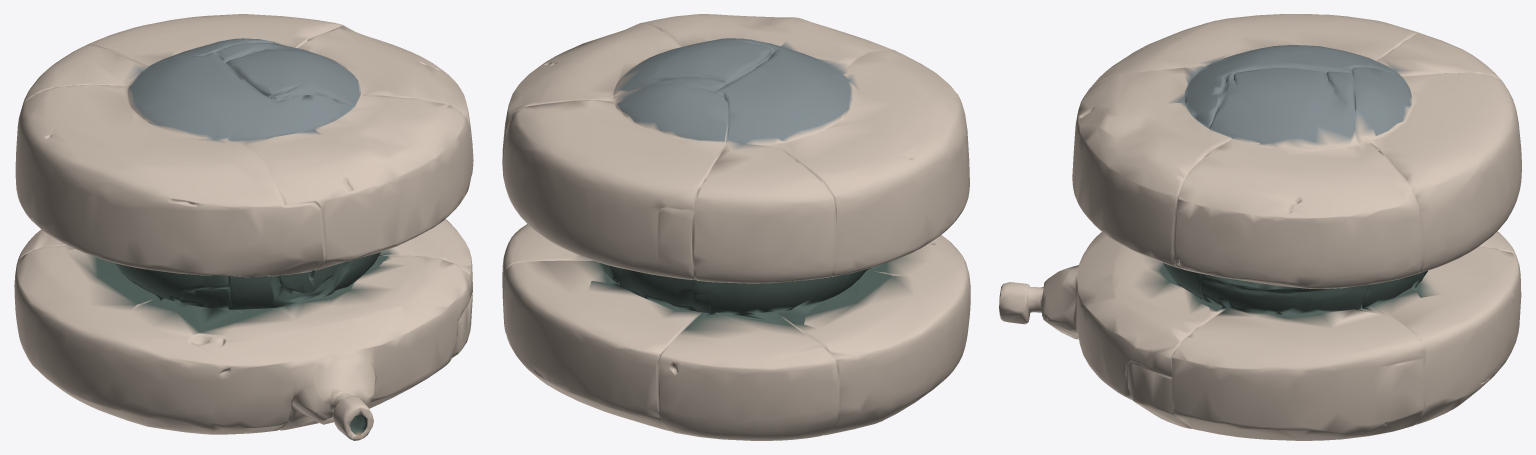
The model's file is body.glb.
The picture shows the model from 3 angles, left to right: view 1: azimuth 30°, elevation 25°; view 2: azimuth 150°, elevation 25°; view 3: azimuth 270°, elevation 25°; orthographic projection. The views are drawn at different scales.
Parts seen in each view (by area): view 1: drone; view 2: drone; view 3: drone.
Boxes of the visible parts, box(x1,y1,x2,y2) form: drone: box(14, 14, 473, 440); drone: box(502, 14, 970, 440); drone: box(999, 14, 1521, 440).
Bounding box in the file's own units: 1.4 × 1.11 × 1.56.
